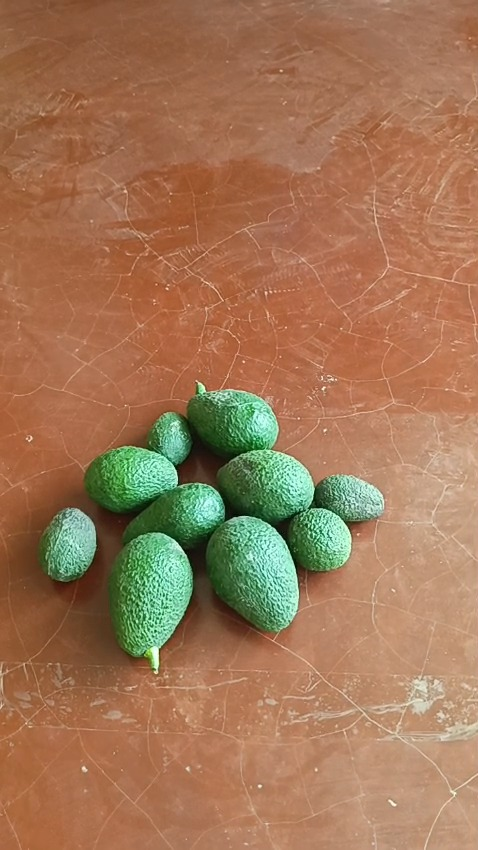Primera: (107, 530, 194, 659), (204, 515, 299, 632), (216, 450, 314, 523), (187, 382, 279, 458)
Segunda: (122, 482, 225, 550), (83, 446, 179, 513)
Tercera: (37, 506, 97, 582), (285, 507, 353, 573), (312, 474, 385, 522), (146, 410, 194, 467)
